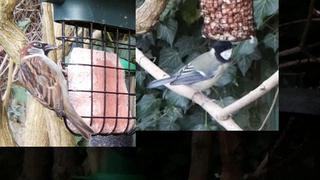great tit: (146, 40, 239, 108)
sparrow: (18, 40, 96, 140)
